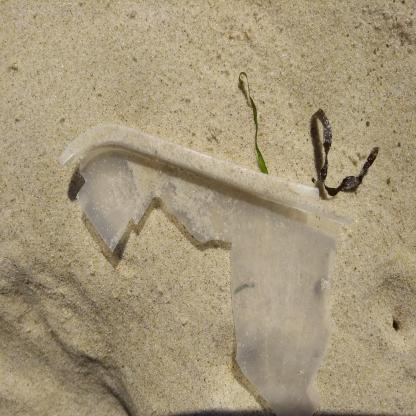Tupperware: (58, 124, 352, 416)
